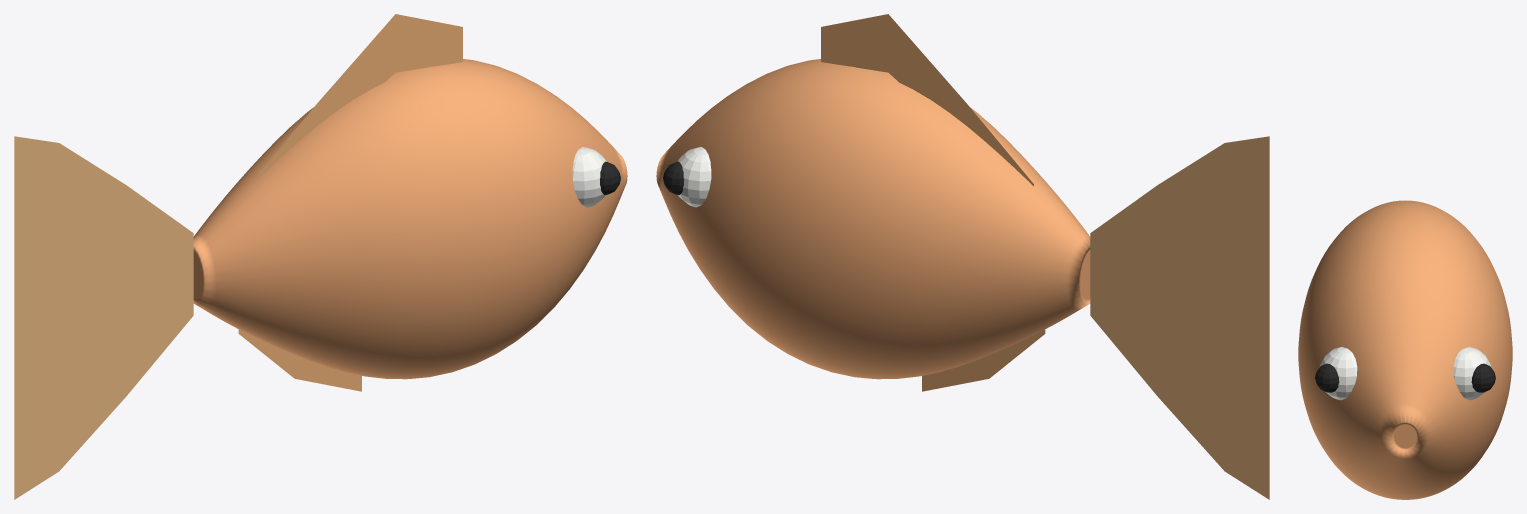
The model's file is goldfish.glb.
The picture shows the model from 3 angles, left to right: view 1: azimuth 30°, elevation 25°; view 2: azimuth 150°, elevation 25°; view 3: azimuth 270°, elevation 25°; orthographic projection. The views are drawn at different scales.
Parts seen in each view (by area): view 1: goldfish_body, goldfish_tail, goldfish_dorsal, goldfish_anal, goldfish_eyew_R; view 2: goldfish_body, goldfish_tail, goldfish_dorsal, goldfish_anal, goldfish_eyew_L; view 3: goldfish_body, goldfish_eyew_L, goldfish_eyew_R, goldfish_eye_L, goldfish_eye_R.
Boxes of the visible parts, box(x1,y1,x2,y2) form: goldfish_body: box(193, 59, 627, 379); goldfish_tail: box(14, 136, 193, 499); goldfish_dorsal: box(250, 14, 462, 186); goldfish_anal: box(238, 329, 361, 391); goldfish_eyew_R: box(572, 147, 606, 207); goldfish_body: box(656, 59, 1090, 379); goldfish_tail: box(1090, 136, 1269, 499); goldfish_dorsal: box(821, 14, 1033, 186); goldfish_anal: box(922, 329, 1045, 391); goldfish_eyew_L: box(677, 147, 711, 207); goldfish_body: box(1298, 200, 1512, 499); goldfish_eyew_L: box(1453, 347, 1491, 400); goldfish_eyew_R: box(1319, 347, 1357, 400); goldfish_eye_L: box(1471, 363, 1495, 392); goldfish_eye_R: box(1315, 363, 1339, 392).
Bounding box in the file's own units: 0.54 × 0.335 × 0.1872.
